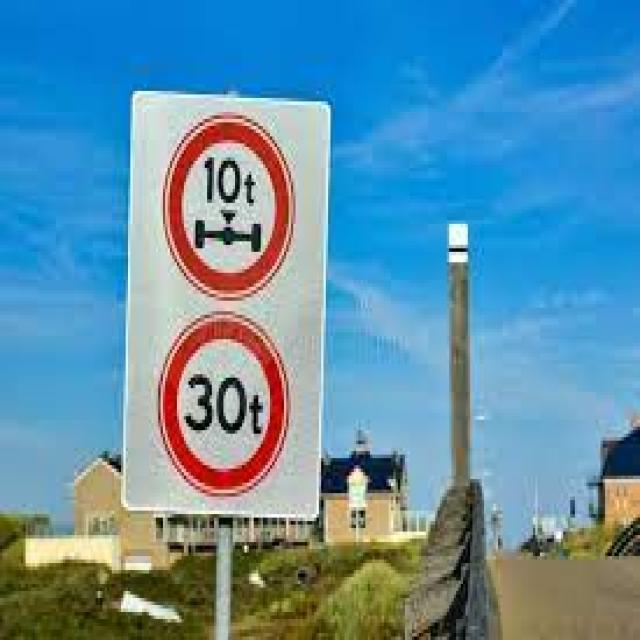axle load limit: (163, 112, 296, 297)
